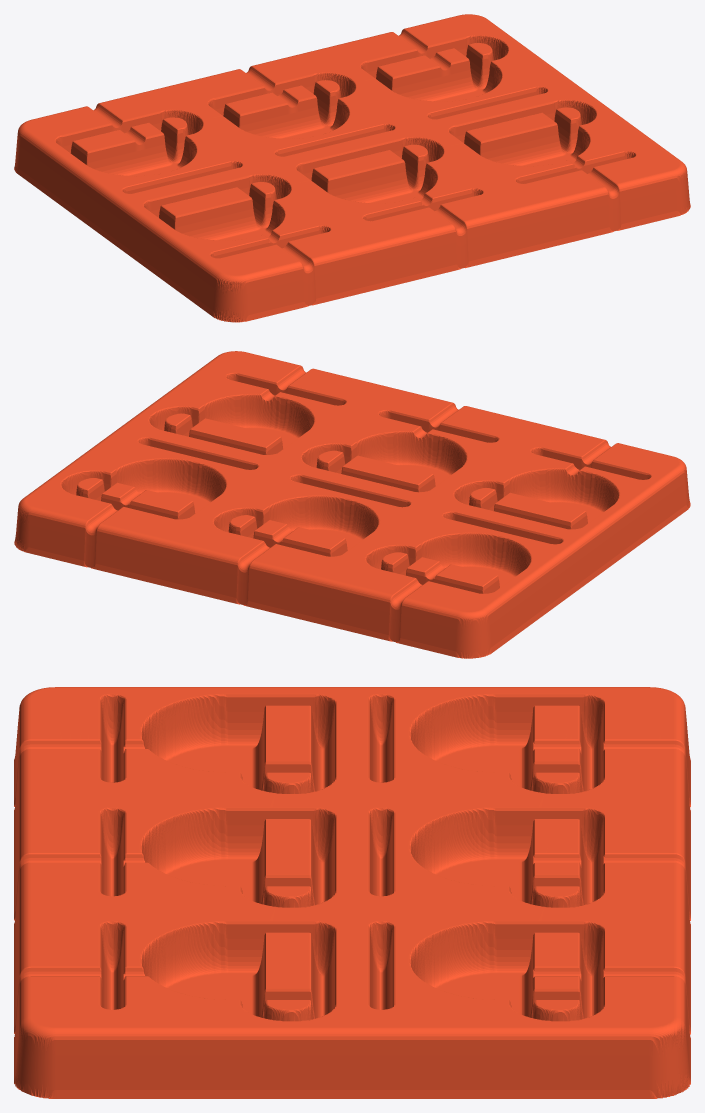
File: mold.glb
The picture shows the model from 3 angles, top to bottom: view 1: azimuth 30°, elevation 25°; view 2: azimuth 150°, elevation 25°; view 3: azimuth 270°, elevation 25°; orthographic projection. The views are drawn at different scales.
Parts seen in each view (by area): view 1: geometry_0; view 2: geometry_0; view 3: geometry_0.
Boxes of the visible parts, x1,y1,x2,y2 form: geometry_0: (14,14,690,322); geometry_0: (14,351,690,658); geometry_0: (14,687,690,1098).
Bounding box in the file's own units: 0.1824 × 0.0155 × 0.1477.
